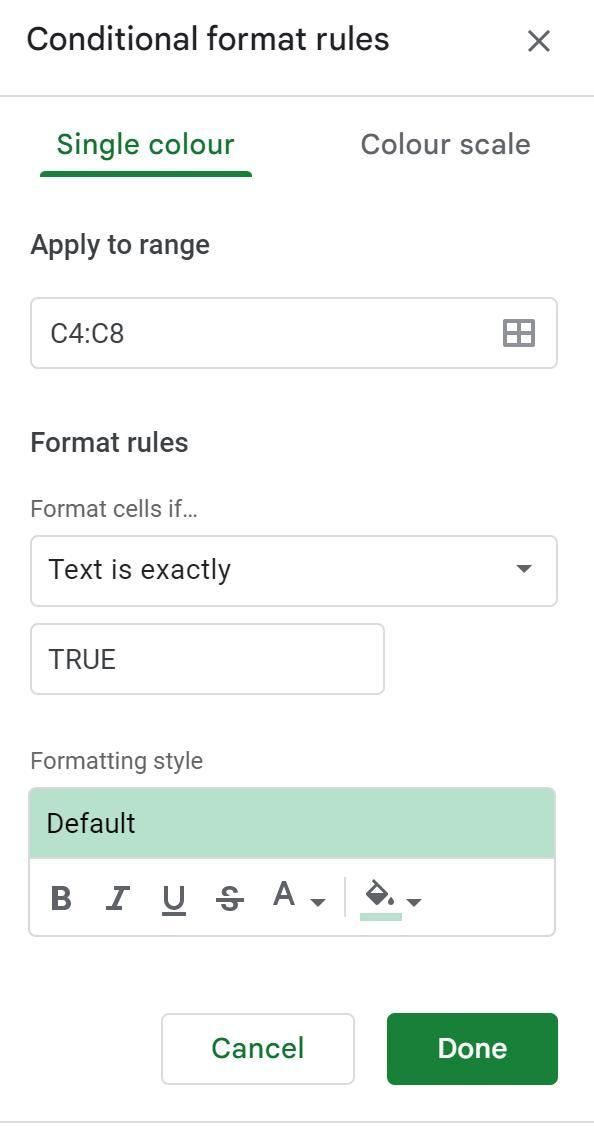button: (164, 1015, 356, 1087), (388, 1014, 560, 1086)
dropdown: (28, 534, 562, 609)
icon: (215, 880, 248, 920), (524, 29, 559, 55)
input: (30, 300, 560, 371), (30, 621, 389, 698)
label: (26, 22, 395, 56), (54, 131, 239, 162), (29, 231, 212, 261), (363, 130, 532, 162), (28, 428, 193, 456), (29, 750, 206, 776), (26, 497, 202, 522), (45, 810, 140, 842)
